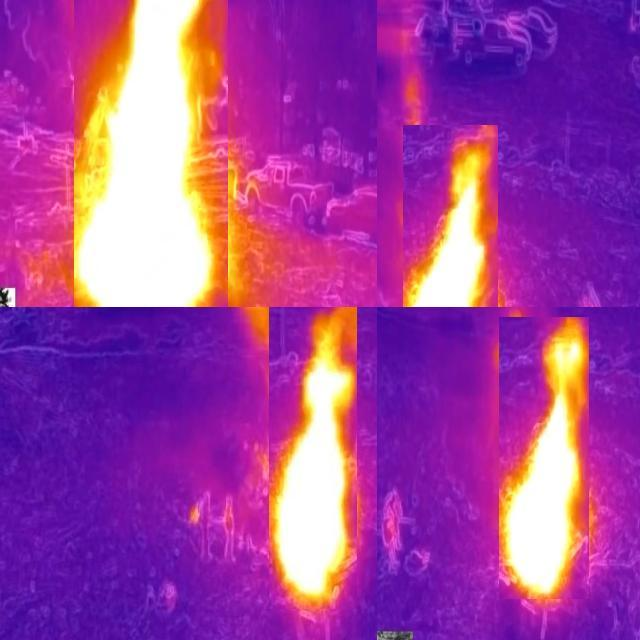fire: (75, 1, 229, 308), (270, 308, 358, 610), (500, 318, 590, 600), (404, 126, 499, 308)
